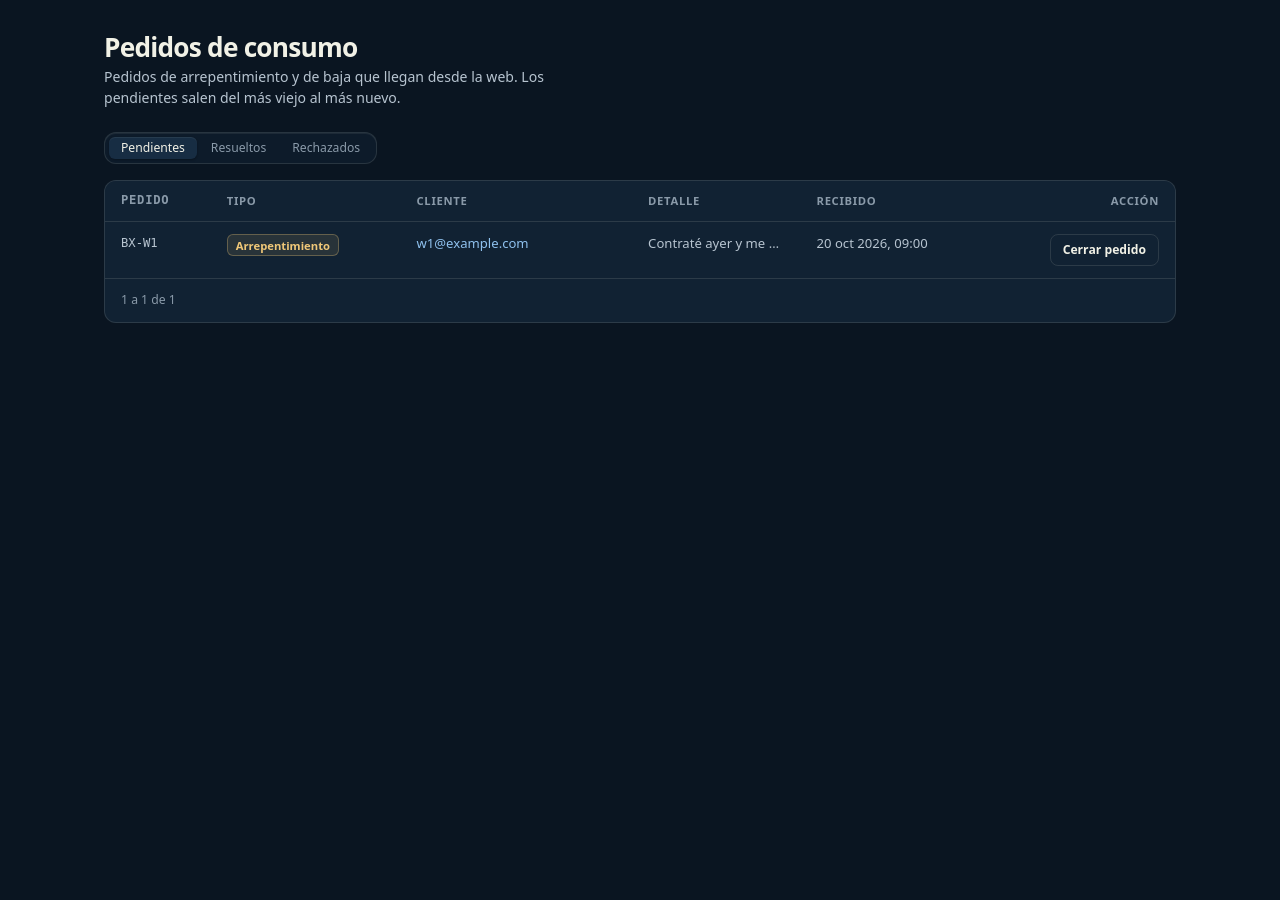
Test: ConsumerRequestsScreen › says when there is no payment to refund
This screenshot has width=1280, height=900.
Click the button "Cerrar pedido". click: click(1104, 250)
box: top-left (1050, 234), bottom-right (1159, 266)
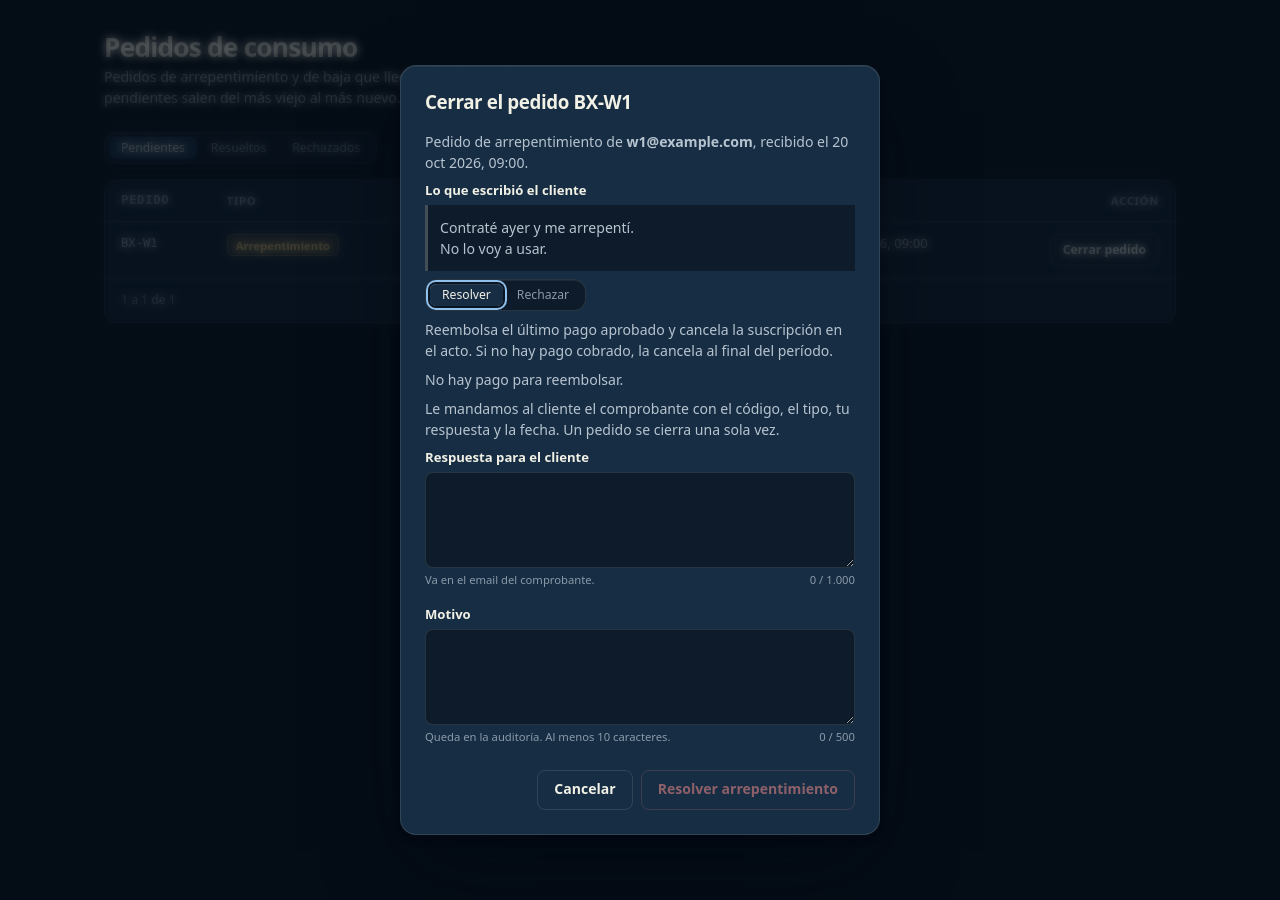
Now the text "No hay pago para reembolsar." is shown, box top-left (425, 370), bottom-right (623, 389)
